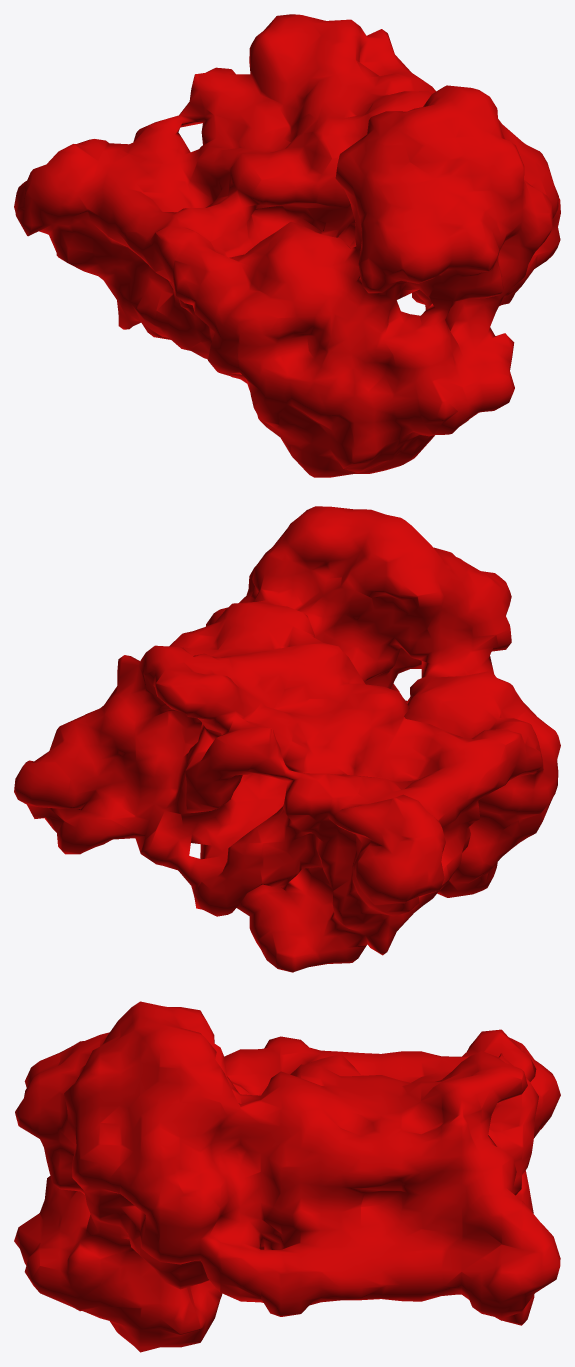
The model's file is CoarseMS_1l7v.dae.
3 renders of one model, top to bottom at view 1: azimuth 30°, elevation 25°; view 2: azimuth 150°, elevation 25°; view 3: azimuth 270°, elevation 25°, orthographic. The views are drawn at different scales.
Parts seen in each view (by area): view 1: CoarseMS_1l7v_Mesh; view 2: CoarseMS_1l7v_Mesh; view 3: CoarseMS_1l7v_Mesh.
Part boxes in pixels (<box>): CoarseMS_1l7v_Mesh: <box>14,14,560,477</box>; CoarseMS_1l7v_Mesh: <box>14,506,560,972</box>; CoarseMS_1l7v_Mesh: <box>14,1001,560,1352</box>.
Bounding box in the file's own units: 85.64 × 92.75 × 68.01.
